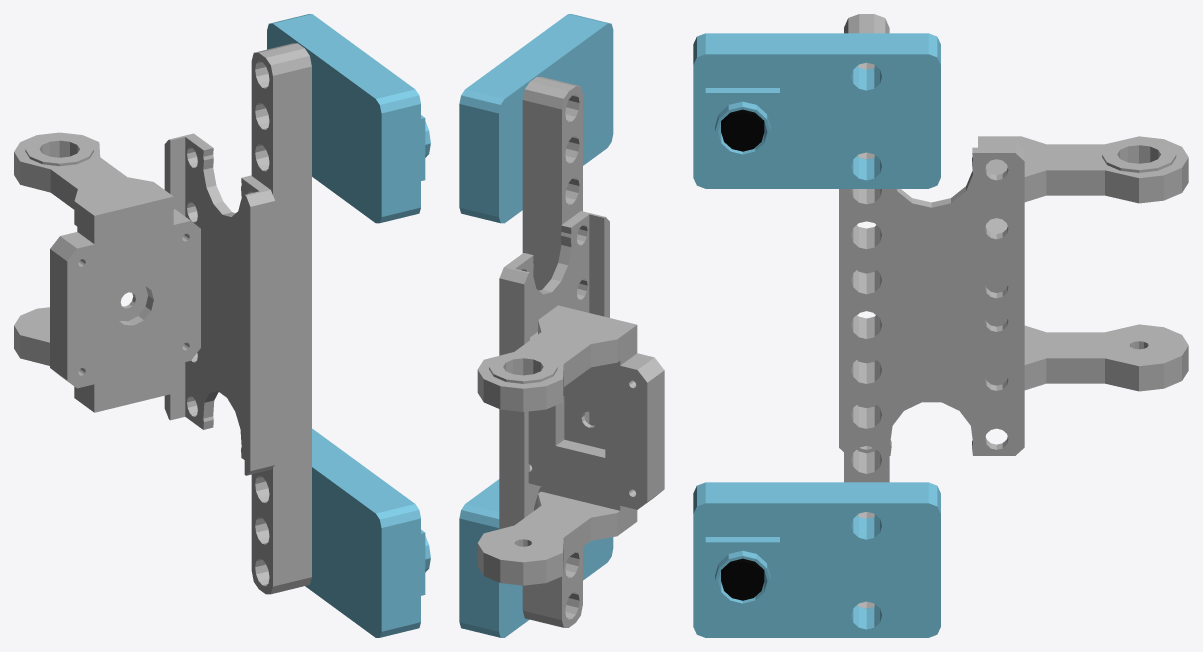
File: head-neck-p_mesh.glb
3 renders of one model, left to right at view 1: azimuth 30°, elevation 25°; view 2: azimuth 150°, elevation 25°; view 3: azimuth 270°, elevation 25°, orthographic. The views are drawn at different scales.
Visible parts, largest first — view 1: base2_M1KShape4, base2_M1KShape3, base2_M1KShape0, base2_M1KShape5, base2_M1KShape7, base2_M1KShape2, base2_M1KShape1; view 2: base2_M1KShape5, base2_M1KShape0, base2_M1KShape4, base2_M1KShape3, base2_M1KShape2, base2_M1KShape1, base2_M1KShape7; view 3: base2_M1KShape7, base2_M1KShape5, base2_M1KShape3, base2_M1KShape4, base2_M1KShape2, base2_M1KShape1, base2_M1KShape8, base2_M1KShape6, base2_M1KShape0.
Part boxes in pixels (left/top/right/bottom): base2_M1KShape4: left=251, top=43, right=311, bottom=594; base2_M1KShape3: left=164, top=133, right=275, bottom=475; base2_M1KShape0: left=50, top=209, right=200, bottom=388; base2_M1KShape5: left=267, top=14, right=430, bottom=223; base2_M1KShape7: left=305, top=428, right=430, bottom=637; base2_M1KShape2: left=14, top=132, right=173, bottom=244; base2_M1KShape1: left=14, top=307, right=173, bottom=412; base2_M1KShape5: left=459, top=14, right=613, bottom=223; base2_M1KShape0: left=528, top=332, right=664, bottom=509; base2_M1KShape4: left=522, top=76, right=582, bottom=627; base2_M1KShape3: left=499, top=211, right=609, bottom=529; base2_M1KShape2: left=477, top=305, right=637, bottom=411; base2_M1KShape1: left=477, top=486, right=637, bottom=585; base2_M1KShape7: left=459, top=479, right=613, bottom=637; base2_M1KShape7: left=693, top=482, right=940, bottom=637; base2_M1KShape5: left=693, top=33, right=940, bottom=188; base2_M1KShape3: left=839, top=140, right=1024, bottom=455; base2_M1KShape4: left=844, top=14, right=889, bottom=608; base2_M1KShape2: left=978, top=136, right=1188, bottom=203; base2_M1KShape1: left=985, top=324, right=1188, bottom=391; base2_M1KShape8: left=721, top=558, right=764, bottom=600; base2_M1KShape6: left=721, top=109, right=764, bottom=151; base2_M1KShape0: left=985, top=218, right=1007, bottom=326.
Bounding box in the file's own units: 0.0489 × 0.104 × 0.08.
